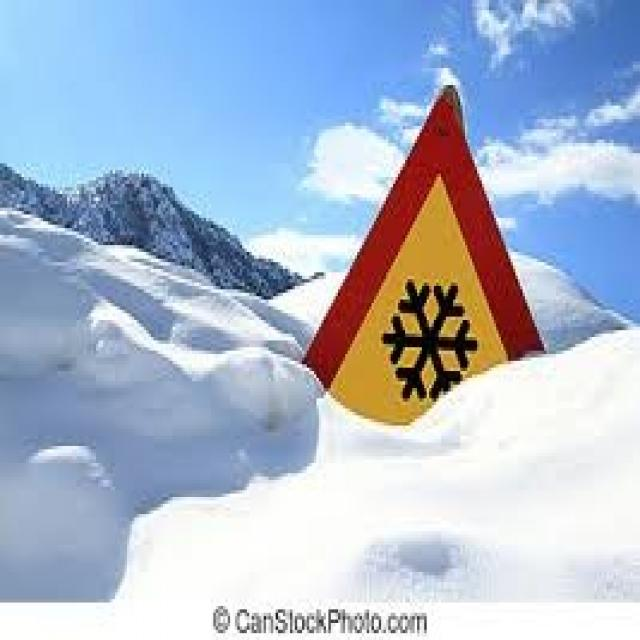snow_warning: (300, 96, 537, 450)
